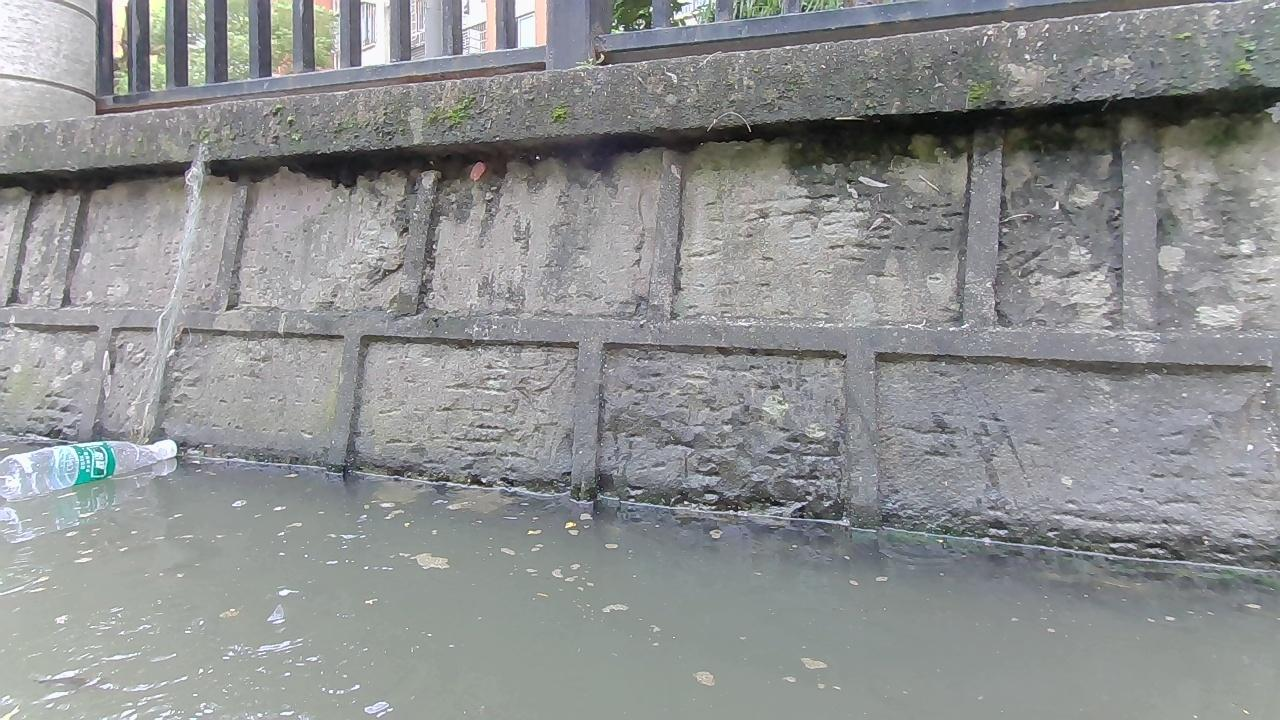bottle: (0, 436, 177, 502)
